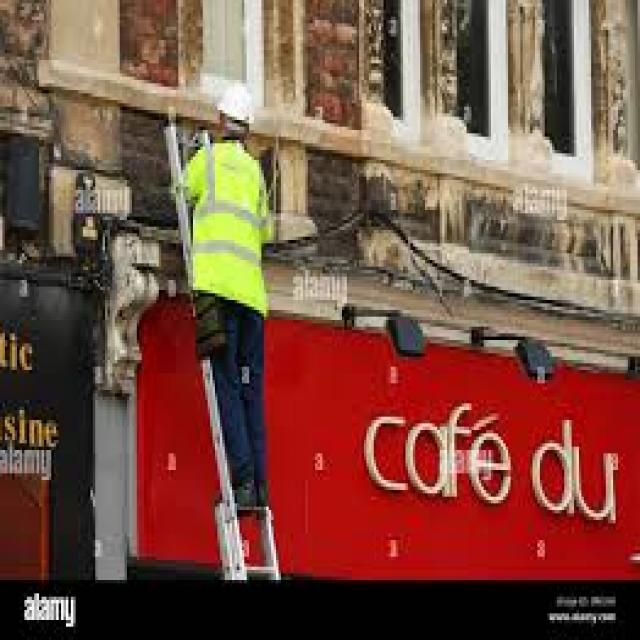Reflective-Jacket: (176, 143, 281, 320)
Safety-Helmet: (208, 73, 261, 137)
